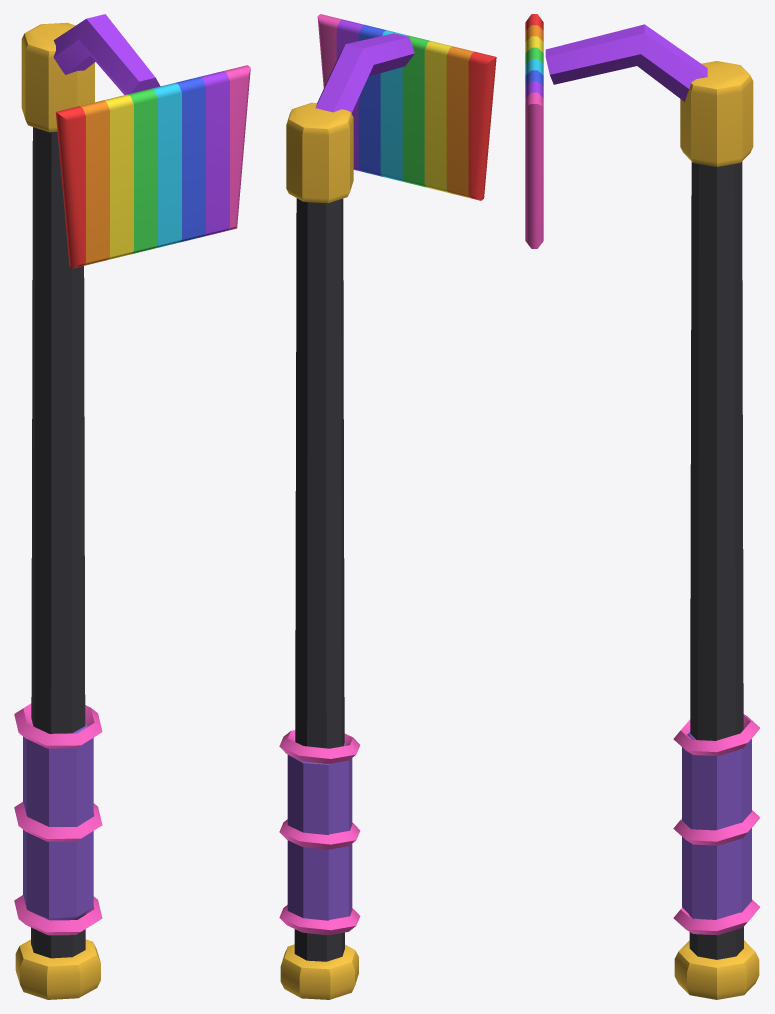
File: RainbowHoe.fbx
3 views of the same model, side by side, from view 1: azimuth 30°, elevation 25°; view 2: azimuth 150°, elevation 25°; view 3: azimuth 270°, elevation 25° (orthographic). The views are drawn at different scales.
Parts seen in each view (by area): view 1: RainbowHoe; view 2: RainbowHoe; view 3: RainbowHoe.
Part boxes in pixels (x1,y1,x2,y2): RainbowHoe: [14, 14, 250, 999]; RainbowHoe: [279, 14, 496, 999]; RainbowHoe: [525, 14, 760, 999].
Bounding box in the file's own units: 0.7 × 3.48 × 0.7736.
Materials: 1 (1 with a texture image).
